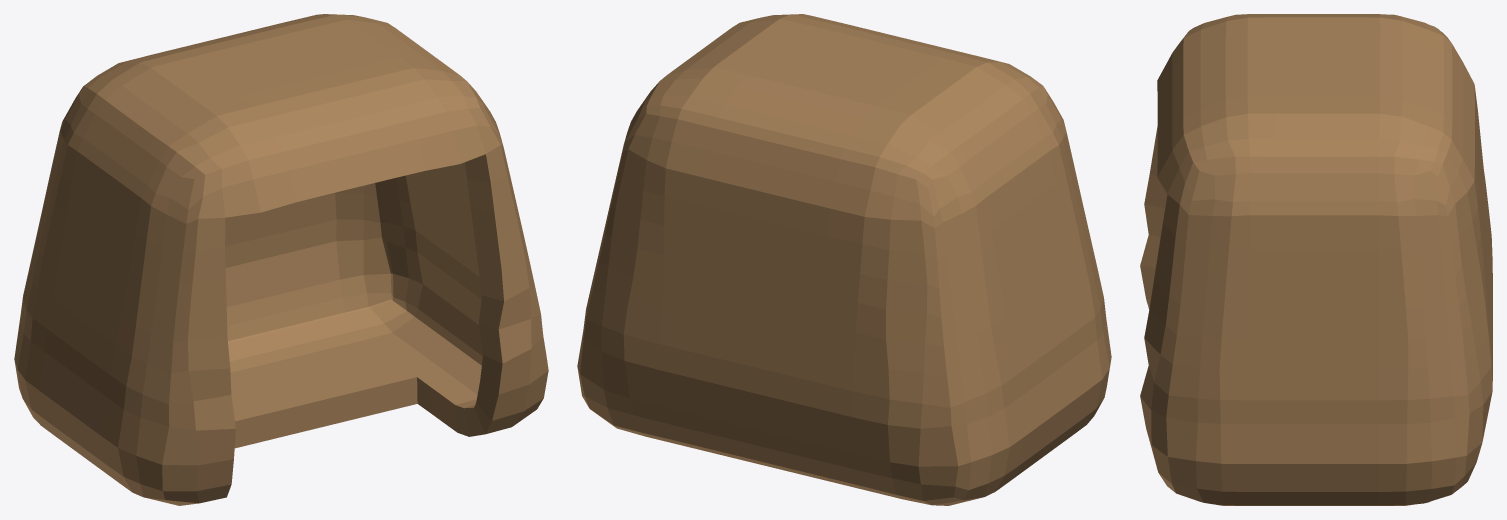
The model's file is hair-bob-brown.glb.
3 views of the same model, side by side, from view 1: azimuth 30°, elevation 25°; view 2: azimuth 150°, elevation 25°; view 3: azimuth 270°, elevation 25° (orthographic).
Visible parts, largest first — view 1: hair_shell; view 2: hair_shell; view 3: hair_shell.
Part boxes in pixels (x1,y1,x2,y2): hair_shell: (14, 14, 548, 505); hair_shell: (577, 14, 1111, 505); hair_shell: (1140, 14, 1492, 505).
Size of the model in its own units: 0.4919 by 0.405 by 0.3558.
